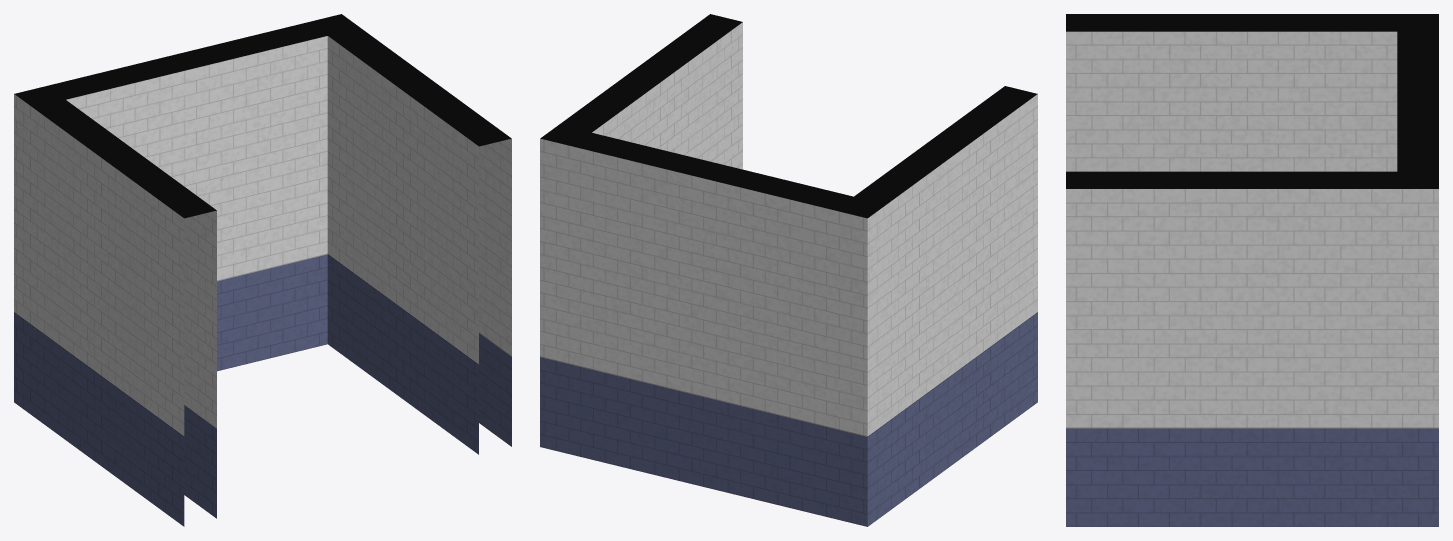
Rendered from deadendStairwell.glb.
3 views of the same model, side by side, from view 1: azimuth 30°, elevation 25°; view 2: azimuth 150°, elevation 25°; view 3: azimuth 270°, elevation 25° (orthographic). The views are drawn at different scales.
Visible parts, largest first — view 1: deadend.003; view 2: deadend.003; view 3: deadend.003.
Part boxes in pixels (box(x1,y1,x2,y2)): deadend.003: box(14, 14, 511, 526); deadend.003: box(540, 14, 1037, 526); deadend.003: box(1066, 14, 1438, 526).
Bounding box in the file's own units: 10 × 9 × 9.
1 material, 1 textured.
